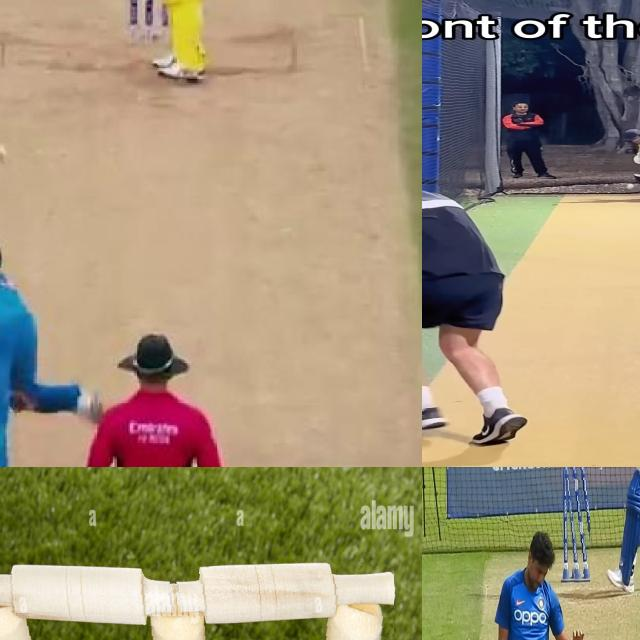Cricket ball: (0, 144, 8, 165), (625, 183, 635, 189)
Stumps: (0, 558, 394, 640), (562, 467, 590, 584)
